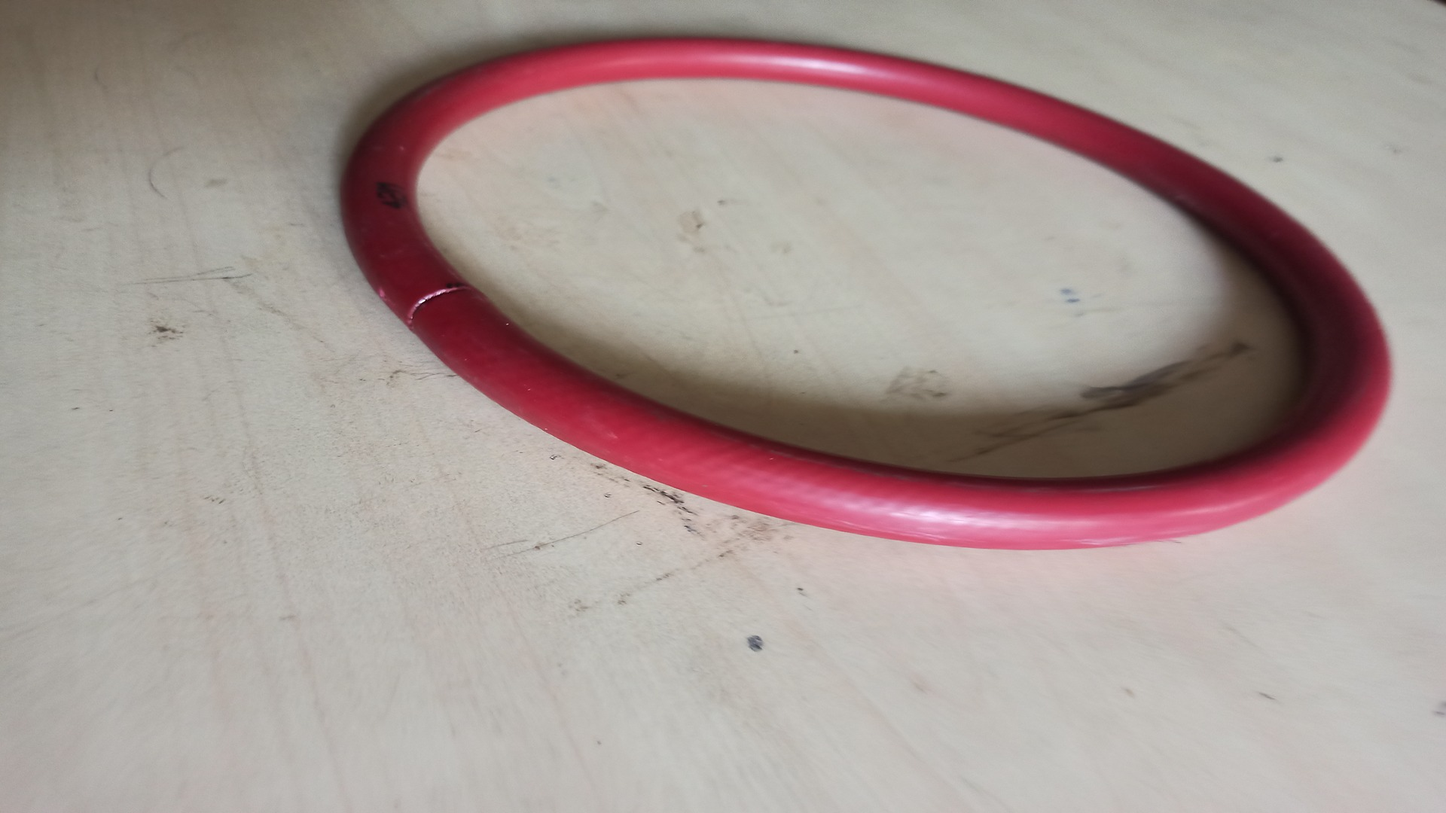Red ring: (346, 38, 1386, 547)
